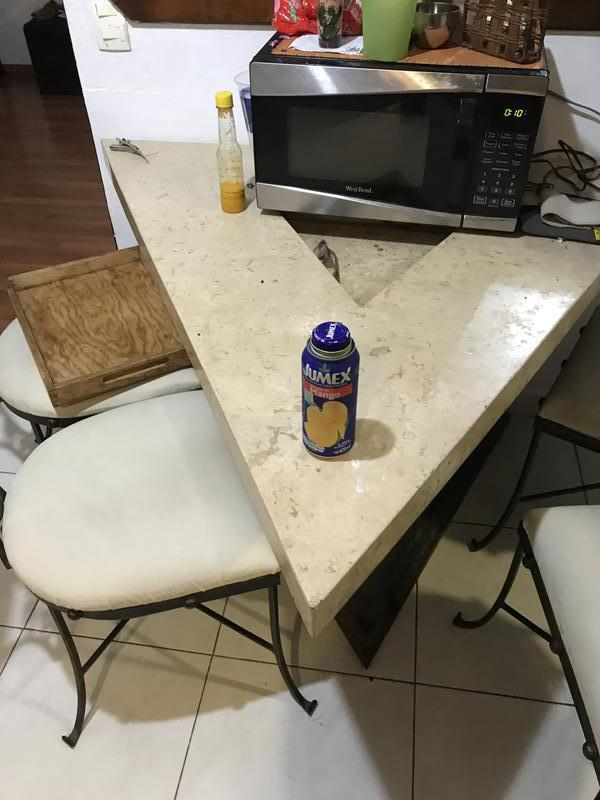jugo_jumex: (299, 323, 361, 459)
